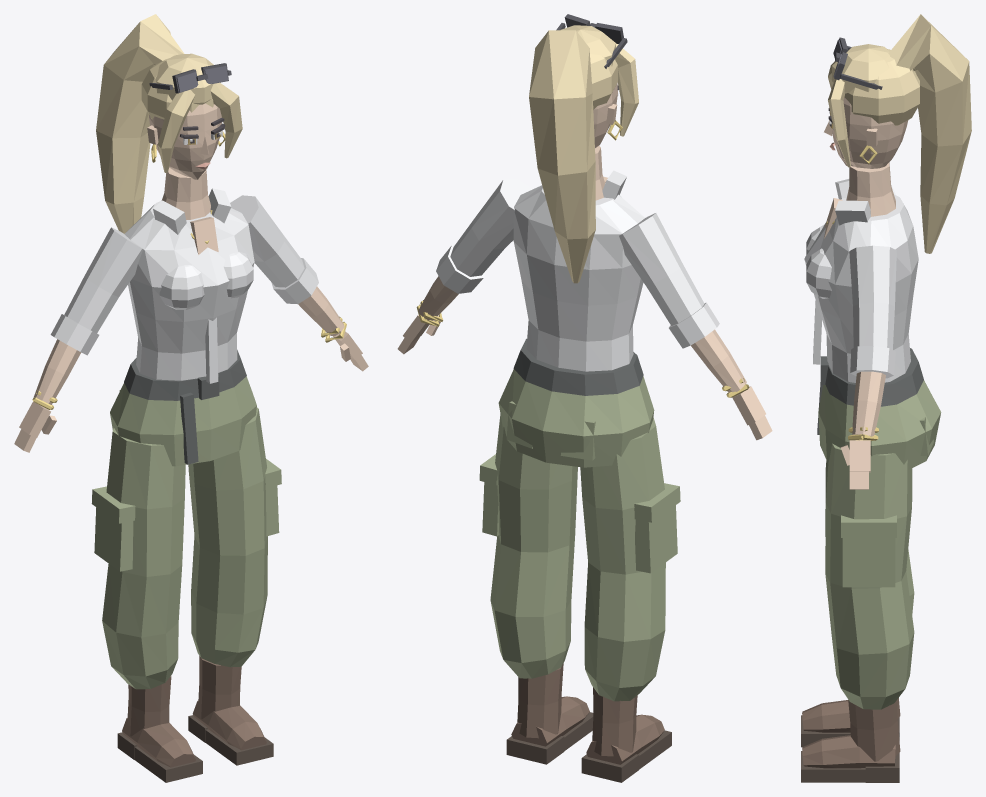
Rendered from tactical_blonde.glb.
3 renders of one model, left to right at view 1: azimuth 30°, elevation 25°; view 2: azimuth 150°, elevation 25°; view 3: azimuth 270°, elevation 25°, orthographic. The views are drawn at different scales.
Parts seen in each view (by area): view 1: Outfit_Pants, Outfit_Top, Hair, Footwear_Boots, Head, Arms, Accessories; view 2: Outfit_Pants, Outfit_Top, Hair, Footwear_Boots, Arms, Accessories, Head; view 3: Outfit_Pants, Outfit_Top, Hair, Footwear_Boots, Head, Arms, Accessories.
Boxes of the visible parts, x1=… form: Outfit_Pants: x1=91, y1=350, x2=281, y2=689; Outfit_Top: x1=50, y1=188, x2=318, y2=383; Hair: x1=96, y1=14, x2=242, y2=233; Footwear_Boots: x1=117, y1=656, x2=273, y2=782; Head: x1=147, y1=103, x2=225, y2=219; Arms: x1=14, y1=286, x2=368, y2=452; Accessories: x1=32, y1=63, x2=346, y2=409; Outfit_Pants: x1=479, y1=338, x2=680, y2=701; Outfit_Top: x1=436, y1=170, x2=719, y2=371; Hair: x1=529, y1=25, x2=638, y2=283; Footwear_Boots: x1=506, y1=663, x2=671, y2=782; Arms: x1=397, y1=276, x2=772, y2=440; Accessories: x1=416, y1=14, x2=749, y2=397; Head: x1=593, y1=83, x2=618, y2=200; Outfit_Pants: x1=817, y1=348, x2=941, y2=709; Outfit_Top: x1=804, y1=179, x2=918, y2=382; Hair: x1=828, y1=14, x2=971, y2=253; Footwear_Boots: x1=801, y1=698, x2=900, y2=782; Head: x1=824, y1=97, x2=908, y2=216; Arms: x1=840, y1=371, x2=885, y2=489; Accessories: x1=826, y1=37, x2=882, y2=440.
Size of the model in its own units: 0.8975 by 1.77 by 0.3737.
